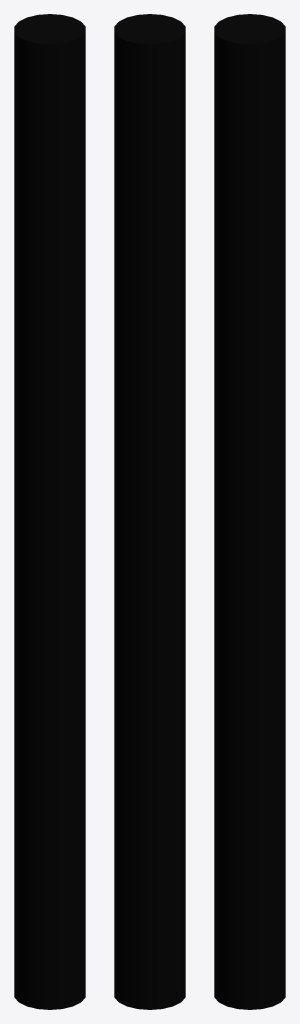
File: flame.FBX
The picture shows the model from 3 angles, left to right: view 1: azimuth 90°, elevation 25°; view 2: azimuth 210°, elevation 25°; view 3: azimuth 270°, elevation 25°; orthographic projection.
Parts seen in each view (by area): view 1: Cylinder001; view 2: Cylinder001; view 3: Cylinder001.
Part boxes in pixels (box(x1,y1,x2,y2)): Cylinder001: box(14, 14, 85, 1009); Cylinder001: box(114, 14, 185, 1009); Cylinder001: box(214, 14, 285, 1009).
Bounding box in the file's own units: 4.03 × 3.97 × 59.42.
Materials: 1 (1 with a texture image).
